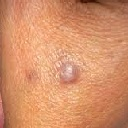Carbuncle: (59, 60, 78, 84)
